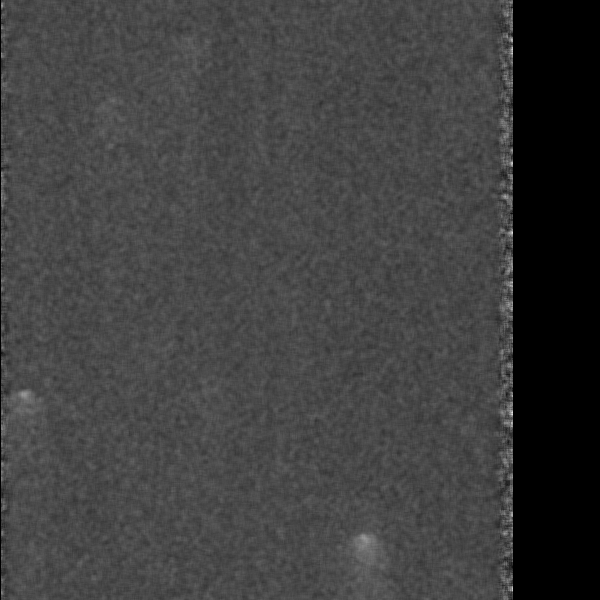spark: (345, 526, 381, 591), (9, 385, 37, 415)
